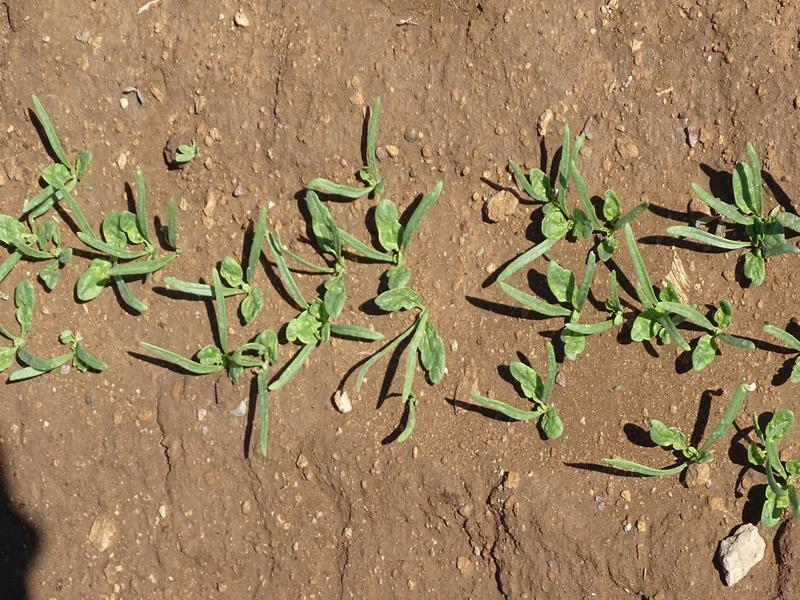Espinaca: (1, 101, 457, 432), (493, 128, 799, 510)
